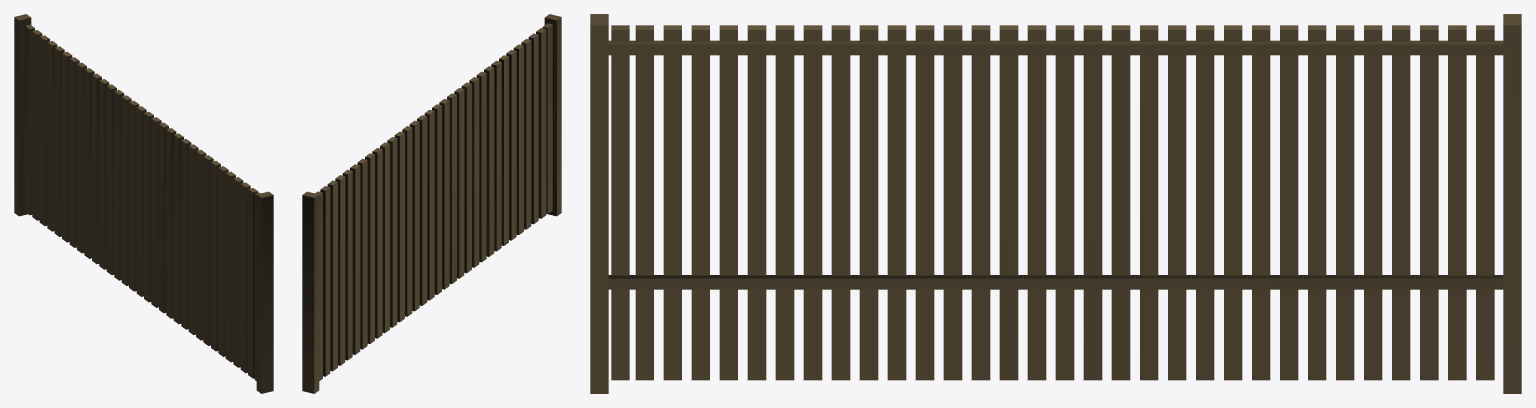
The model's file is Wood_Fence_Dence_Tall_Long.fbx.
The picture shows the model from 3 angles, left to right: view 1: azimuth 30°, elevation 25°; view 2: azimuth 150°, elevation 25°; view 3: azimuth 270°, elevation 25°; orthographic projection. The views are drawn at different scales.
Parts seen in each view (by area): view 1: Wood_Fence_Dence_Tall_Long; view 2: Wood_Fence_Dence_Tall_Long; view 3: Wood_Fence_Dence_Tall_Long.
Boxes of the visible parts, x1,y1,x2,y2 form: Wood_Fence_Dence_Tall_Long: (14,14,273,393); Wood_Fence_Dence_Tall_Long: (302,14,561,393); Wood_Fence_Dence_Tall_Long: (590,14,1521,393).
Size of the model in its own units: 0.0103 by 0.1569 by 0.3592.
